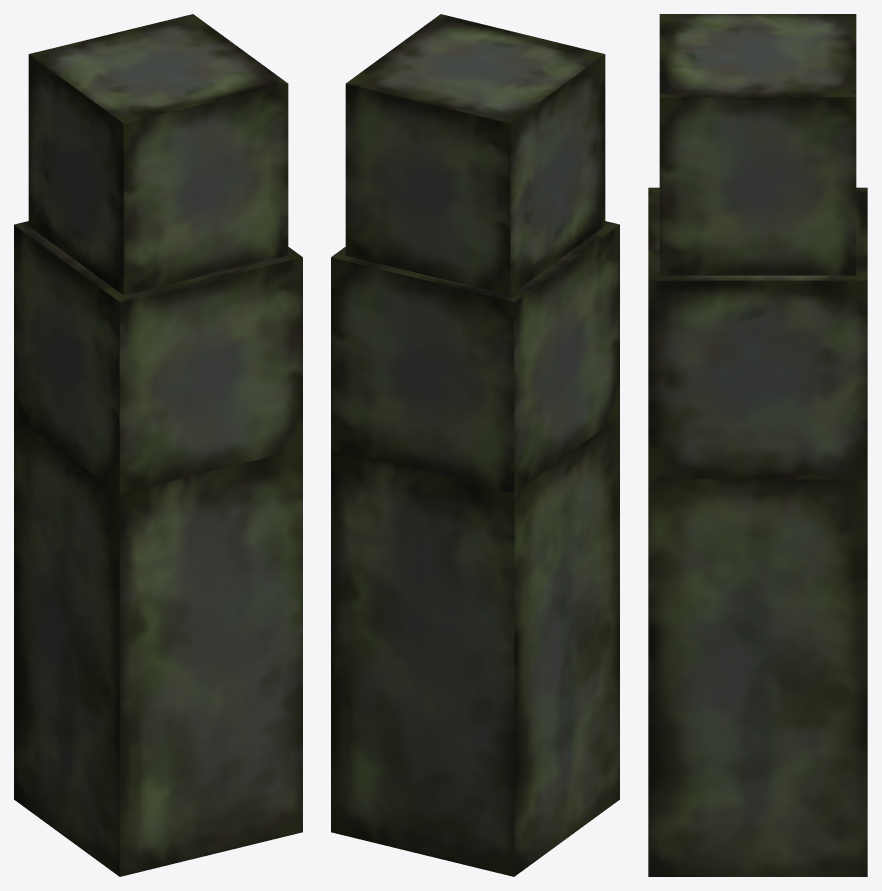
The model's file is pillar-01.fbx.
The picture shows the model from 3 angles, left to right: view 1: azimuth 30°, elevation 25°; view 2: azimuth 150°, elevation 25°; view 3: azimuth 270°, elevation 25°; orthographic projection. The views are drawn at different scales.
Parts seen in each view (by area): view 1: pillar_1; view 2: pillar_1; view 3: pillar_1.
Part boxes in pixels (x1,y1,x2,y2): pillar_1: (14,14,302,876); pillar_1: (331,14,619,876); pillar_1: (648,14,867,876).
Size of the model in its own units: 100 by 390 by 100.
